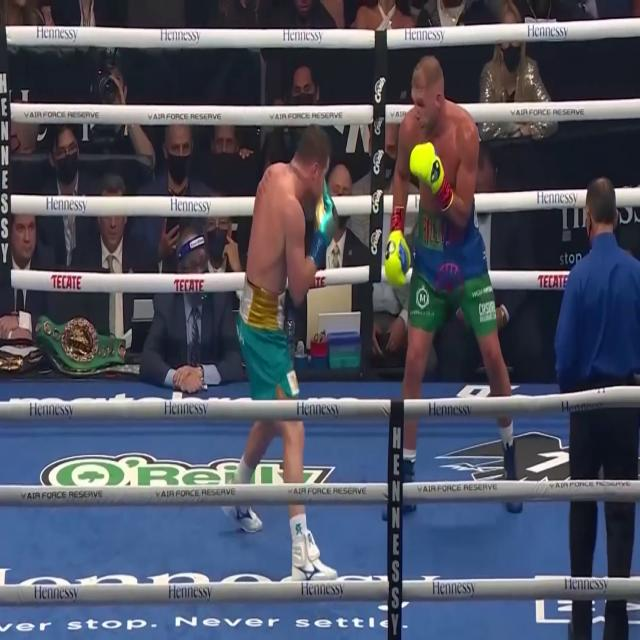boxer_1: (408, 55, 482, 255)
boxer_2: (241, 123, 332, 330)
gloves_1: (411, 141, 454, 209), (385, 205, 412, 286)
gloves_2: (309, 179, 338, 266)
